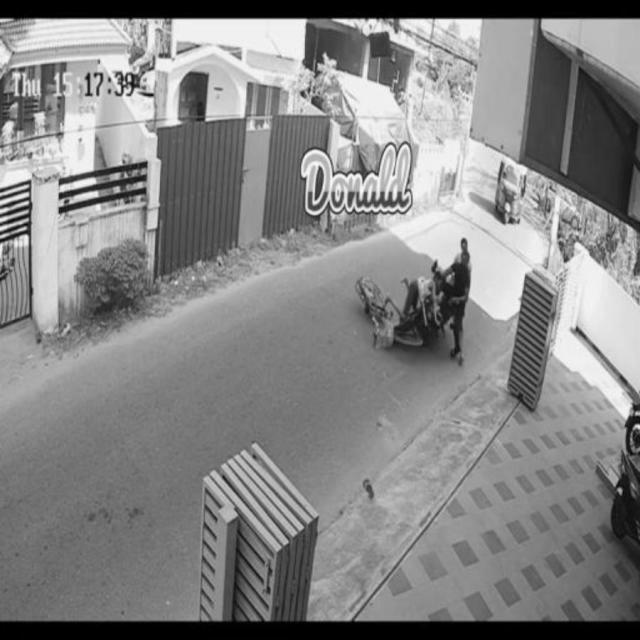accident: (358, 236, 474, 360)
vehicle: (493, 152, 527, 222)
